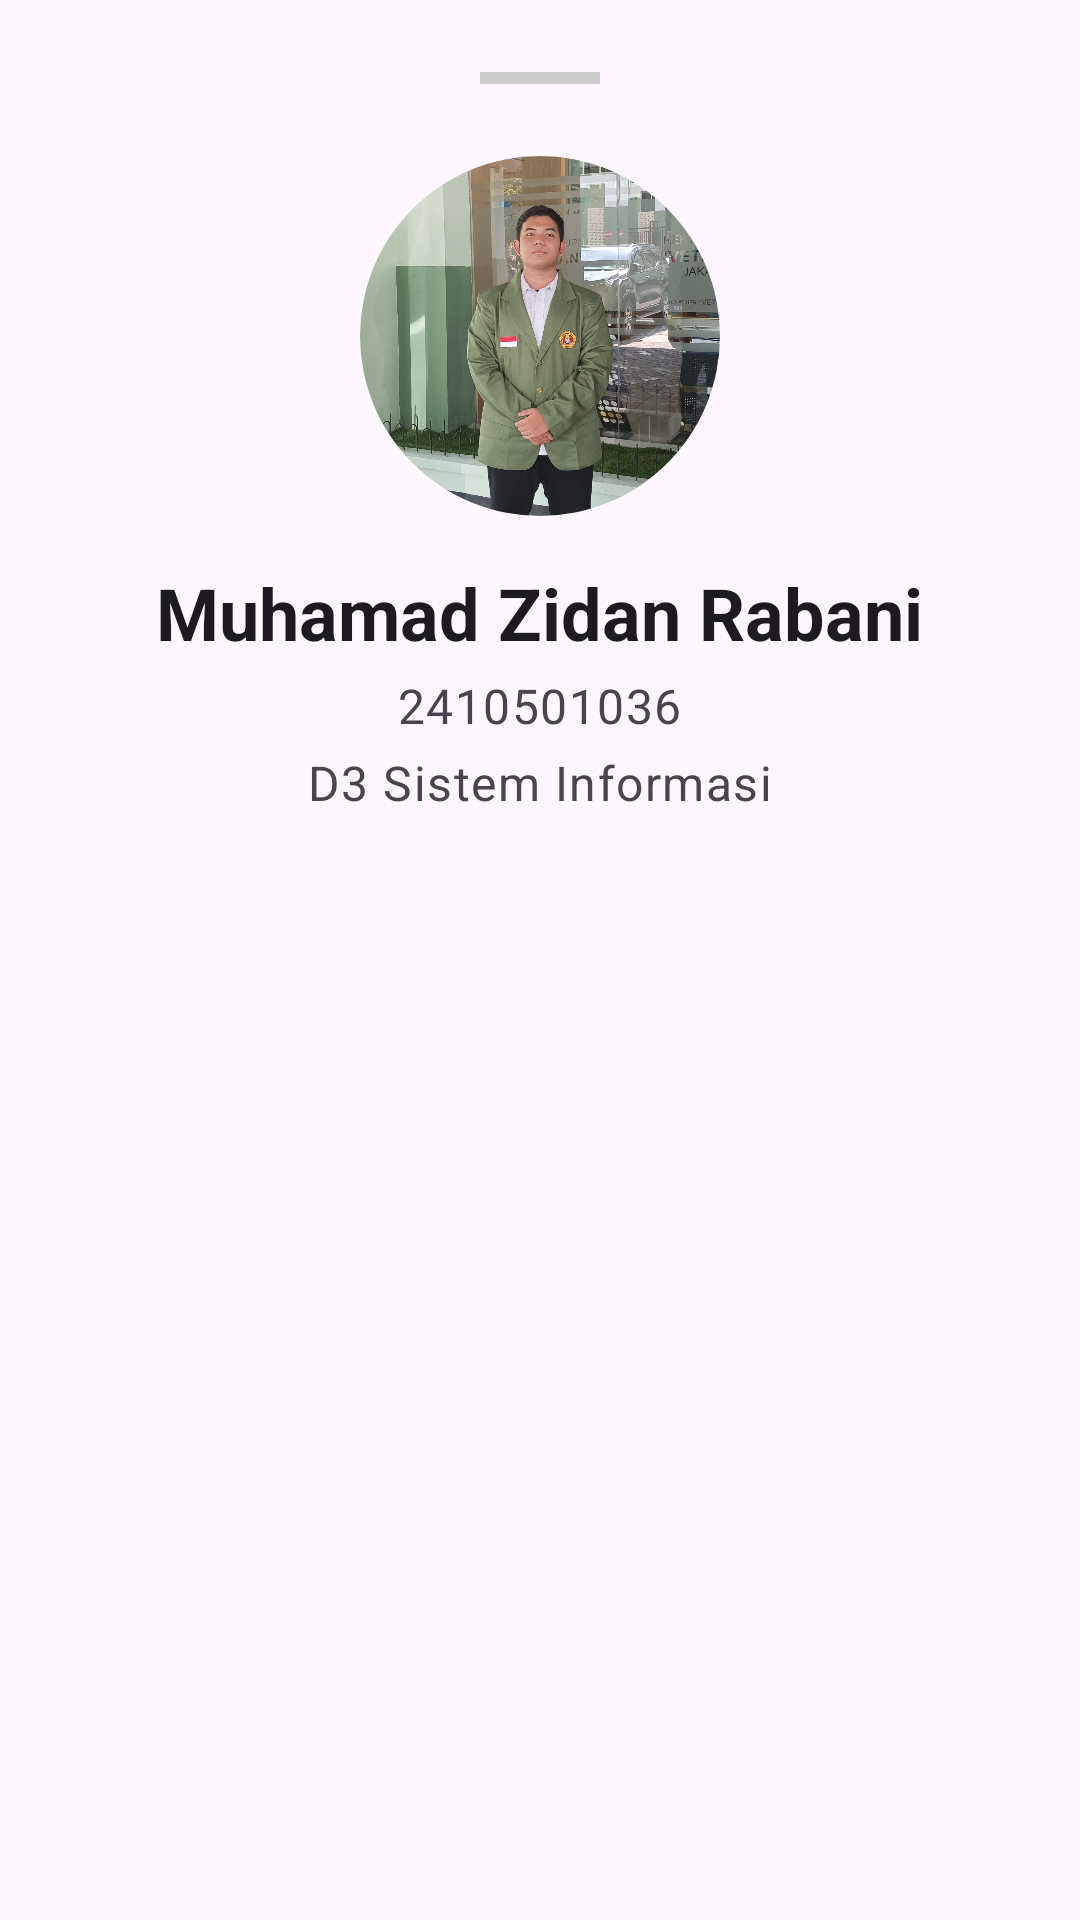

Icons on this 1080*1920 Android screen, each with the point to tap as (x=x, y=y):
profile picture: (x=540, y=336)
